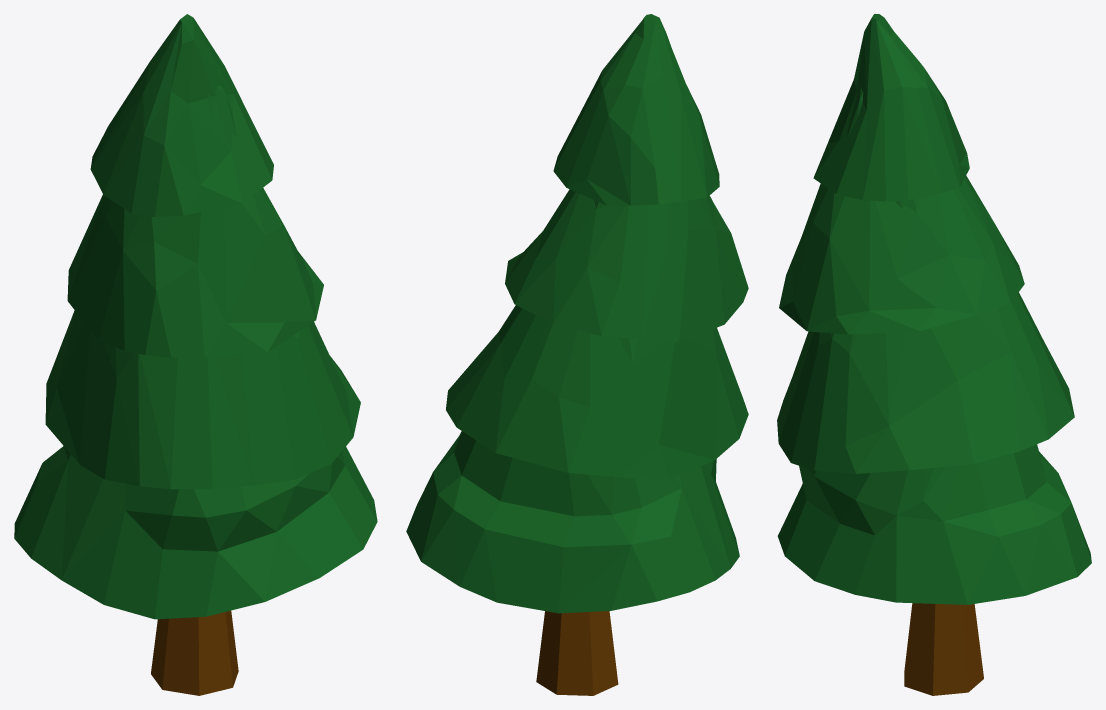
Rendered from tree3.fbx.
3 renders of one model, left to right at view 1: azimuth 30°, elevation 25°; view 2: azimuth 150°, elevation 25°; view 3: azimuth 270°, elevation 25°, orthographic. The views are drawn at different scales.
Parts seen in each view (by area): view 1: Cylinder.001, Cylinder; view 2: Cylinder.001, Cylinder; view 3: Cylinder.001, Cylinder.
Boxes of the visible parts, x1,y1,x2,y2 form: Cylinder.001: (14, 14, 377, 619); Cylinder: (151, 610, 238, 695); Cylinder.001: (406, 14, 748, 613); Cylinder: (536, 611, 618, 695); Cylinder.001: (777, 14, 1091, 604); Cylinder: (904, 603, 983, 695).
Size of the model in its own units: 394 by 831 by 369.
